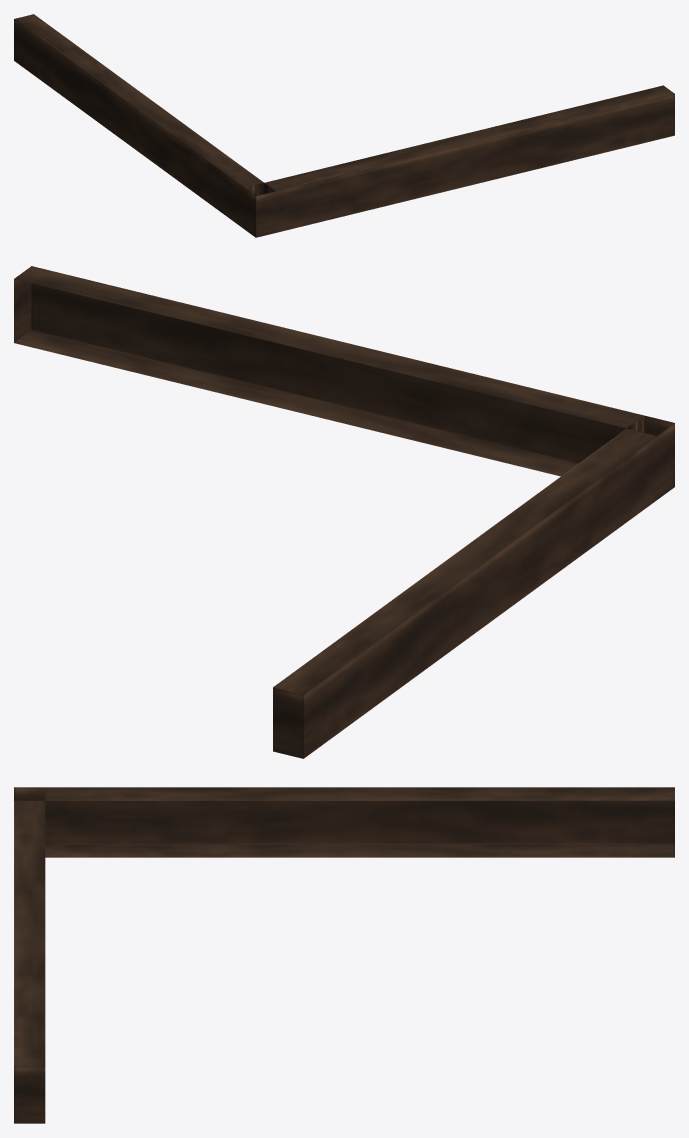
File: floor_beam_corner_2.fbx
3 views of the same model, one above another, from view 1: azimuth 30°, elevation 25°; view 2: azimuth 150°, elevation 25°; view 3: azimuth 270°, elevation 25° (orthographic). The views are drawn at different scales.
Parts seen in each view (by area): view 1: floor_beam_corner_2; view 2: floor_beam_corner_2; view 3: floor_beam_corner_2.
Boxes of the visible parts, x1=… form: floor_beam_corner_2: x1=14, y1=14, x2=674, y2=237; floor_beam_corner_2: x1=14, y1=266, x2=674, y2=758; floor_beam_corner_2: x1=14, y1=787, x2=674, y2=1123.
Size of the model in its own units: 210 by 20 by 210.
